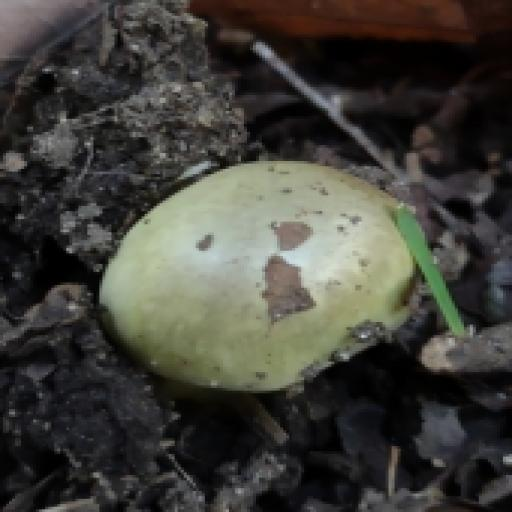Death Cap: (73, 96, 446, 452)
